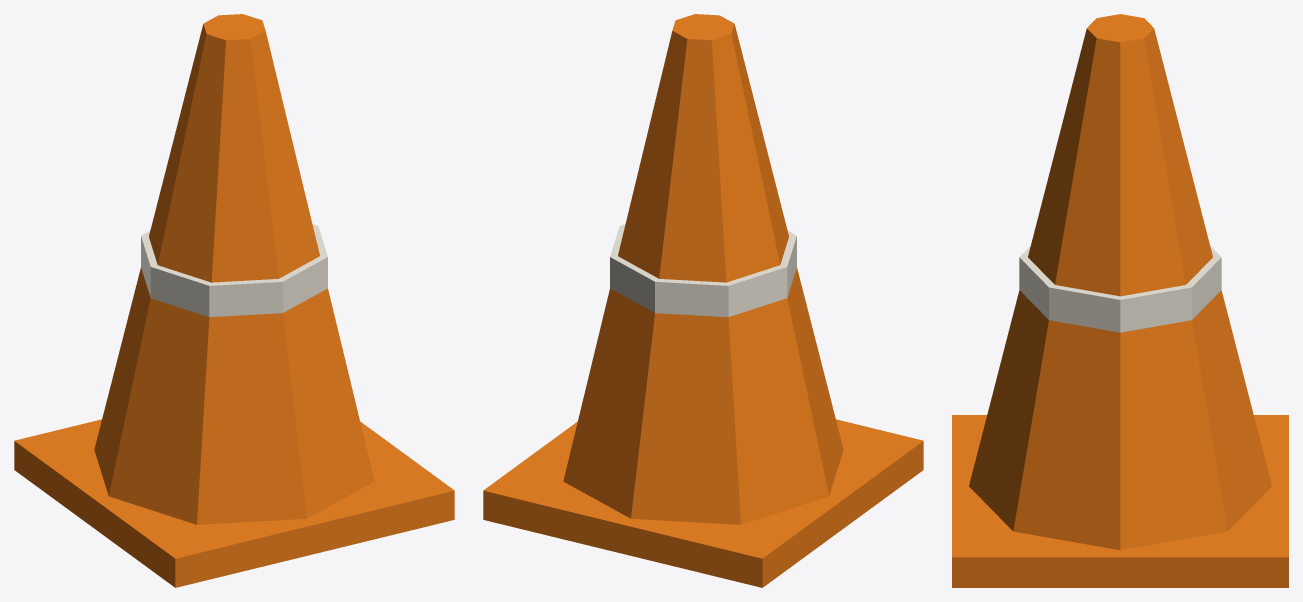
Rendered from garage_traffic_cone.glb.
The picture shows the model from 3 angles, left to right: view 1: azimuth 30°, elevation 25°; view 2: azimuth 150°, elevation 25°; view 3: azimuth 270°, elevation 25°; orthographic projection. The views are drawn at different scales.
Parts seen in each view (by area): view 1: traffic_cone; view 2: traffic_cone; view 3: traffic_cone.
Part boxes in pixels (<box>): traffic_cone: <box>14,14,454,587</box>; traffic_cone: <box>483,14,923,587</box>; traffic_cone: <box>952,14,1288,587</box>.
Size of the model in its own units: 0.4 by 0.64 by 0.4.
